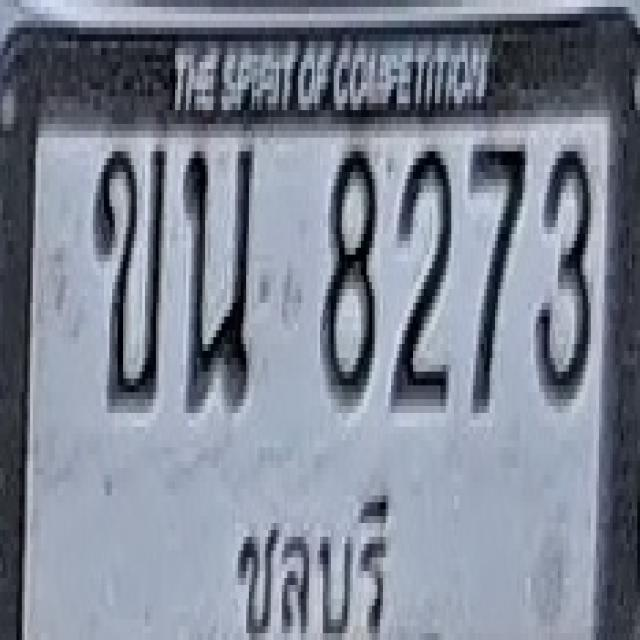2: (391, 141, 451, 403)
3: (536, 145, 591, 399)
7: (471, 141, 525, 410)
8: (321, 145, 376, 399)
A02: (94, 145, 166, 406)
A25: (185, 145, 253, 406)
CBI: (230, 472, 392, 640)
